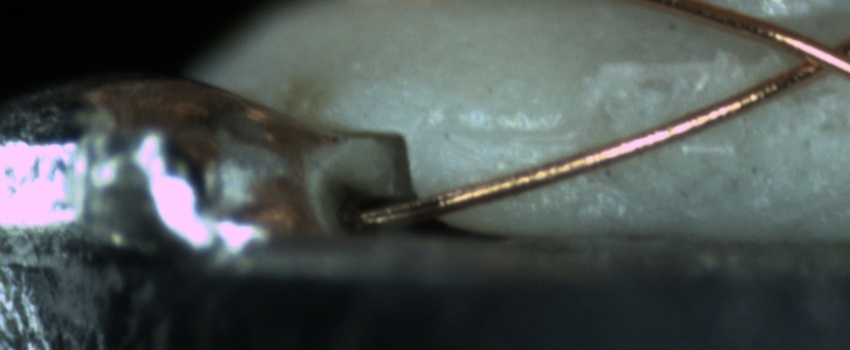CL: (771, 24, 849, 88)
DL: (432, 97, 586, 161)
